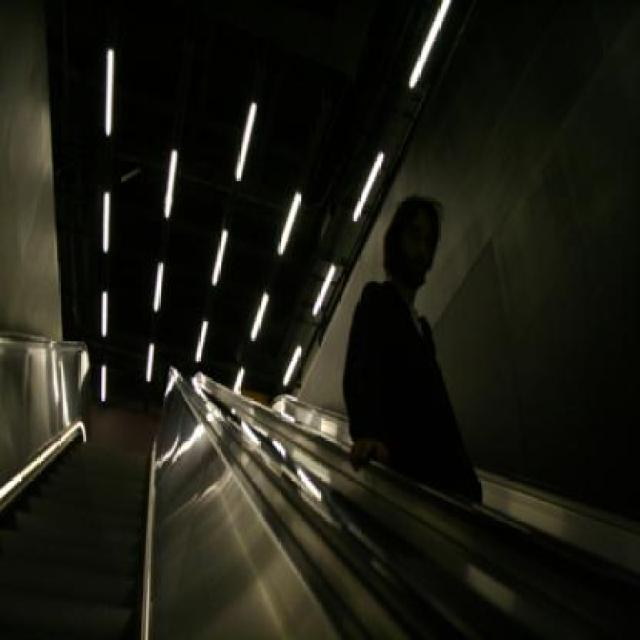stair: (0, 432, 154, 638)
